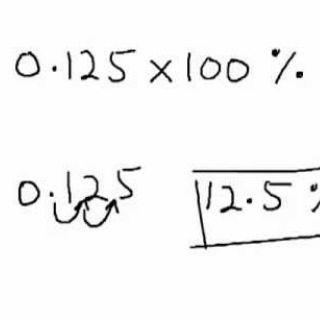.: (49, 64, 58, 73), (244, 195, 253, 204)
0: (16, 176, 41, 209), (14, 50, 41, 78), (225, 55, 250, 84), (198, 53, 222, 83)
1: (62, 49, 75, 81), (203, 179, 215, 210), (184, 49, 194, 84)
2: (76, 46, 101, 82), (218, 183, 242, 215)
5: (107, 44, 137, 87), (115, 165, 145, 201), (260, 178, 292, 211)
